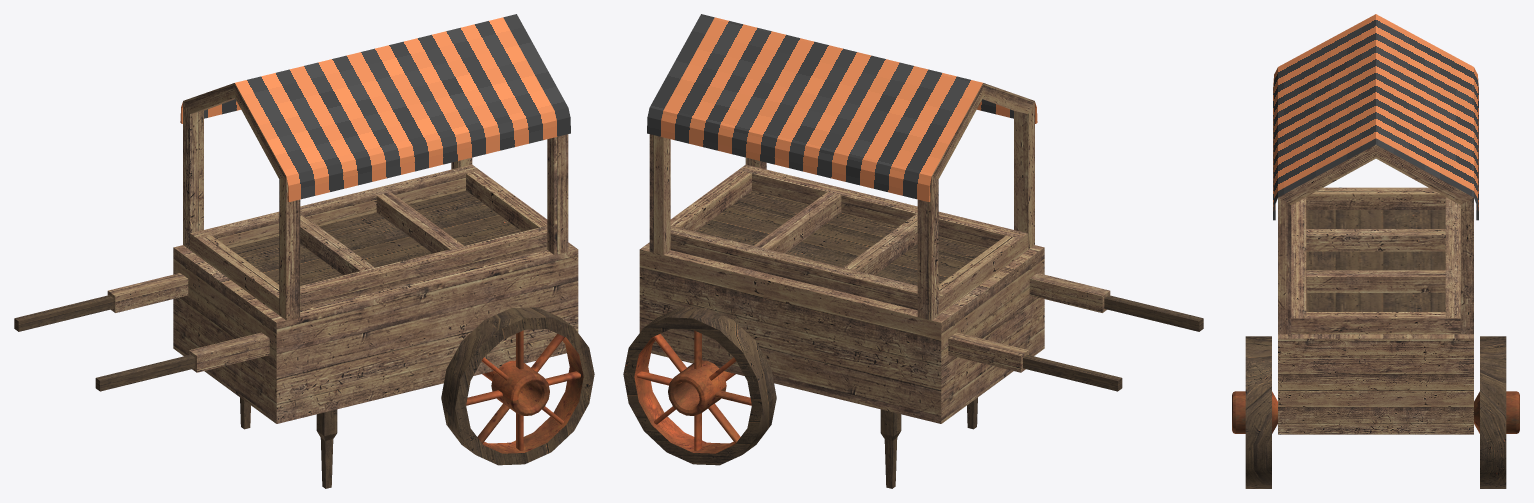
Rendered from Cart (1).fbx.
3 views of the same model, side by side, from view 1: azimuth 30°, elevation 25°; view 2: azimuth 150°, elevation 25°; view 3: azimuth 270°, elevation 25° (orthographic). The views are drawn at different scales.
Visible parts, largest first — view 1: Cart; view 2: Cart; view 3: Cart.
Boxes of the visible parts, bbox=[...] form: Cart: bbox=[14, 14, 594, 488]; Cart: bbox=[623, 14, 1203, 488]; Cart: bbox=[1232, 14, 1519, 488].
Size of the model in its own units: 263 by 207 by 147.
4 materials, 4 textured.
